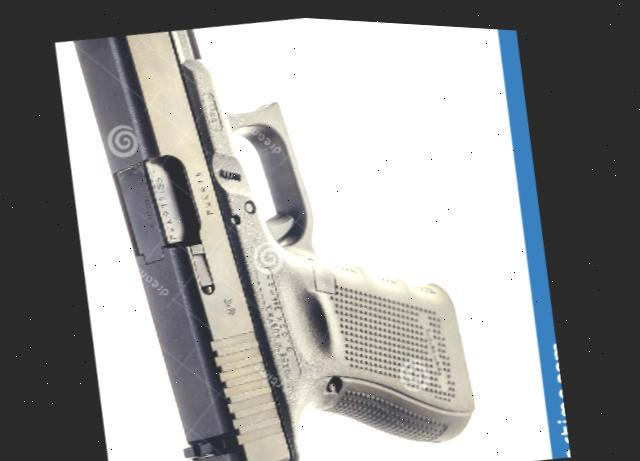pistol: (54, 3, 505, 461)
